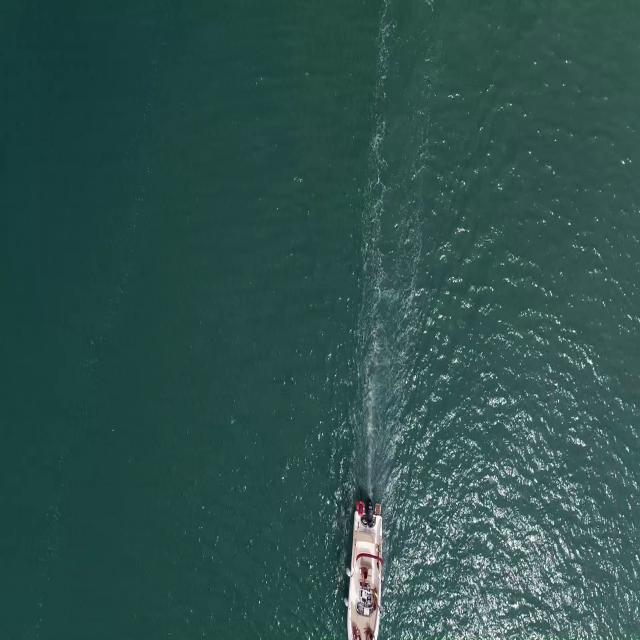boat: (345, 513, 386, 640)
life_buoy: (356, 502, 365, 516)
person: (370, 592, 381, 615), (359, 564, 369, 588), (350, 628, 363, 640), (364, 626, 374, 640)
